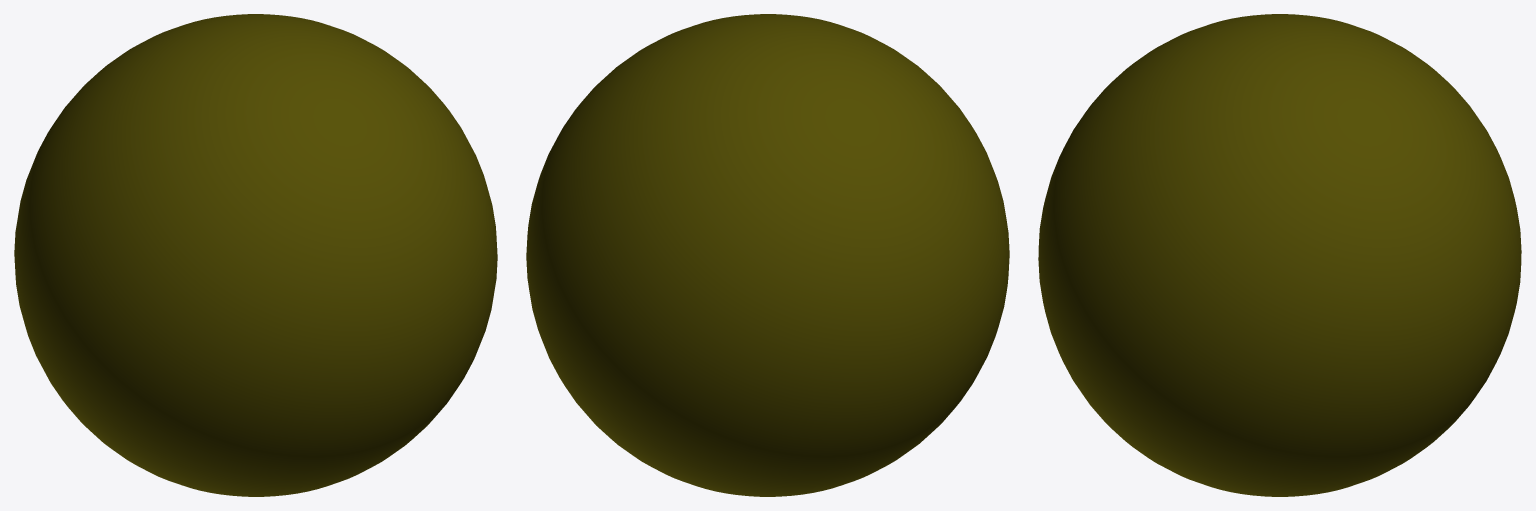
File: sun.gltf
3 renders of one model, left to right at view 1: azimuth 30°, elevation 25°; view 2: azimuth 150°, elevation 25°; view 3: azimuth 270°, elevation 25°, orthographic.
Parts seen in each view (by area): view 1: sun; view 2: sun; view 3: sun.
Part boxes in pixels (x1,y1,x2,y2): sun: (14,14,497,496); sun: (526,14,1009,496); sun: (1038,14,1521,496).
Bounding box in the file's own units: 89.83 × 89.92 × 89.83.
